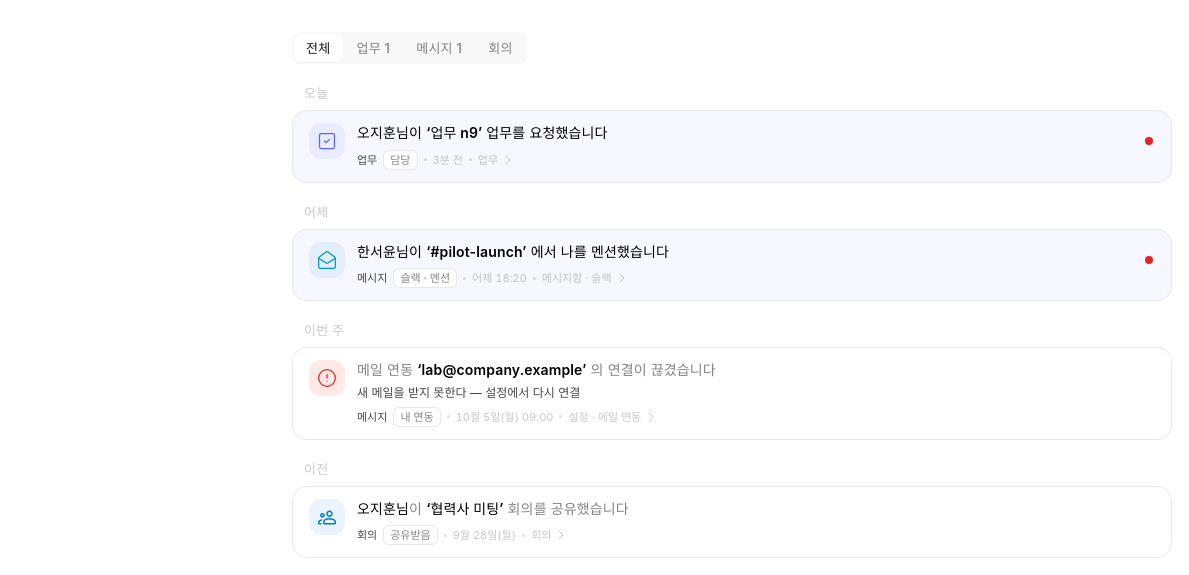
Test: 알림 화면 — 기본 › [모두 읽음] = 전부(필터와 무관) — 본문 없는 POST · 모든 줄 읽음 · 머리 숨김 · 점 다시 읽기 · 전체가 0 이면 비활성
This screenshot has width=1189, height=575.
Expected: the text "업무 n9" is shown, [430,124,478,141]
Click the tab "회의" at [500, 48], box [476,34,525,62]
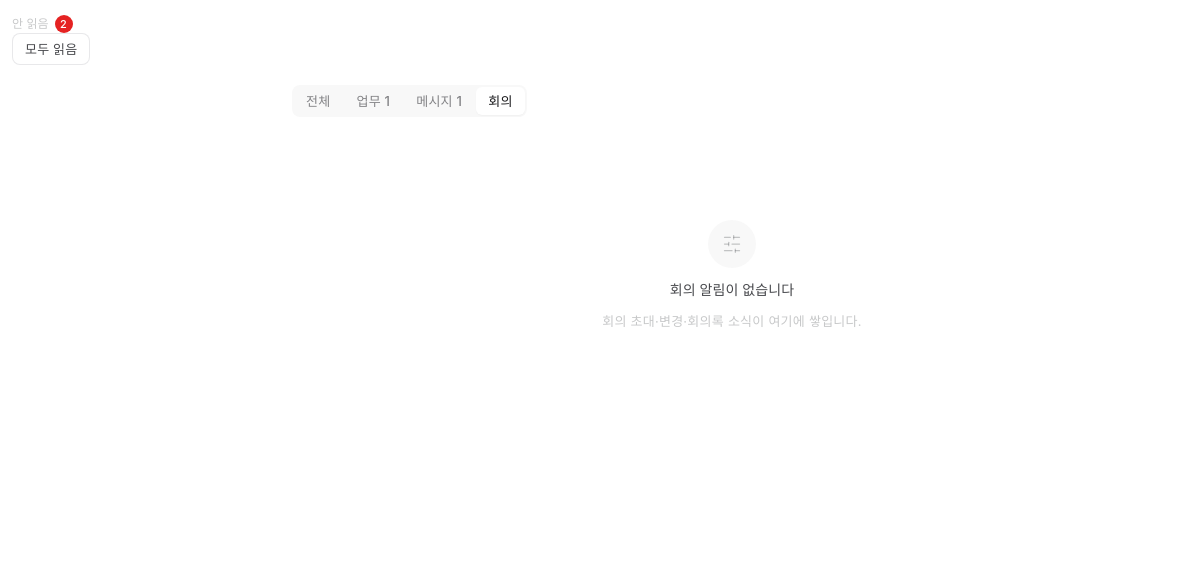
Expected: the text "회의 알림이 없습니다" is shown, [670,280,794,300]
Expected: the button "모두 읽음" is enabled
Click the button "모두 읽음" at [51, 49], box [12,33,90,65]
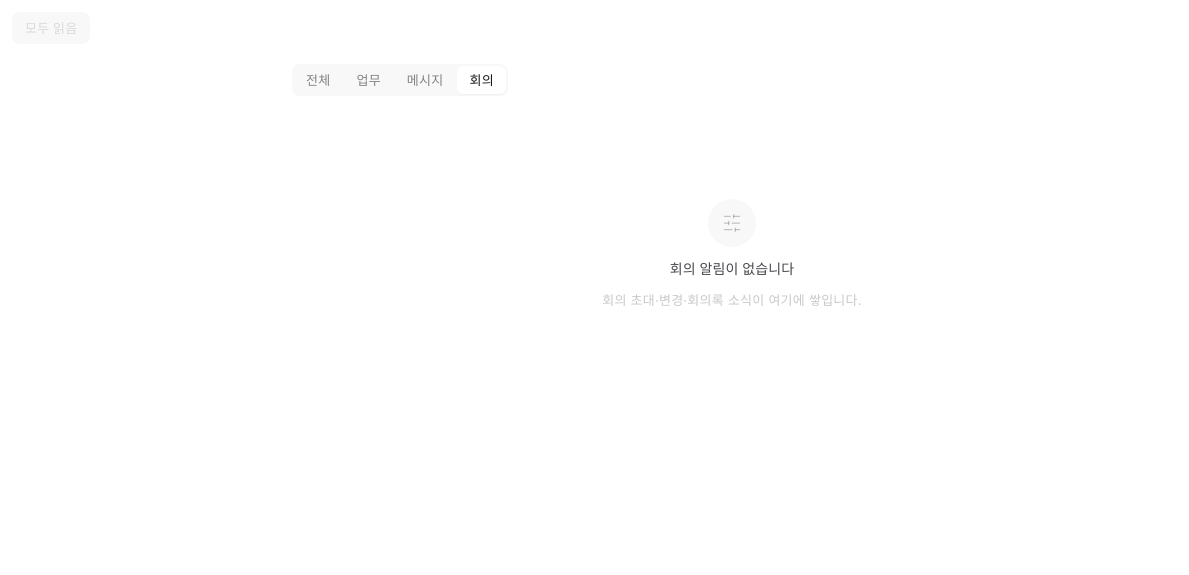
Expected: the button "모두 읽음" is disabled, [12,12,90,44]
